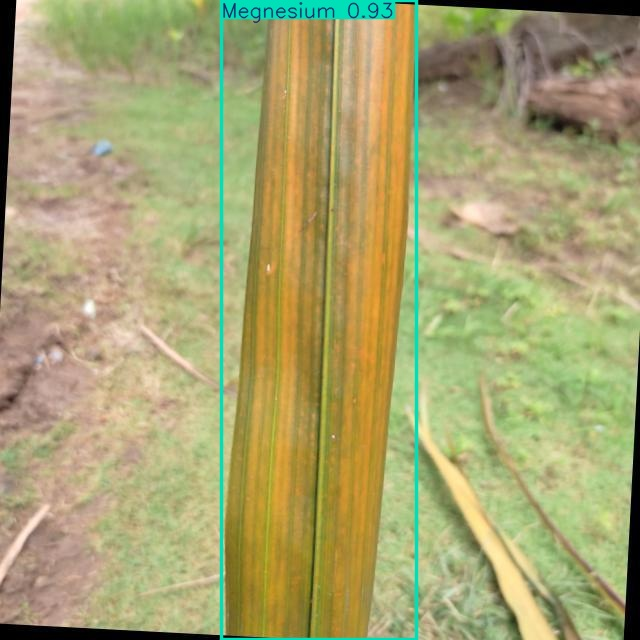Megnesium: (221, 1, 417, 640)
